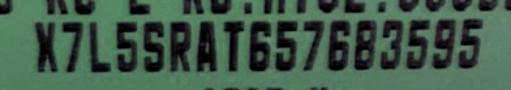letter: (456, 14, 491, 68), (349, 15, 380, 71), (296, 16, 327, 72), (376, 15, 408, 69), (56, 20, 89, 72), (401, 15, 432, 69), (110, 20, 142, 72), (136, 18, 167, 70), (270, 18, 301, 70), (219, 17, 247, 73), (430, 16, 460, 68), (327, 16, 354, 72), (167, 18, 195, 72), (245, 18, 272, 72), (33, 20, 61, 72), (87, 18, 111, 72), (193, 21, 219, 69)
